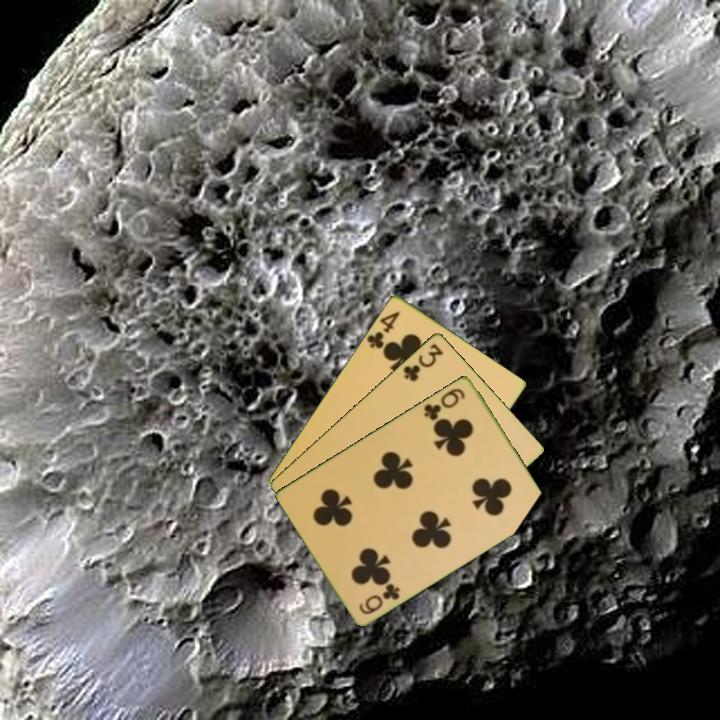3c: (400, 339, 446, 384)
4c: (363, 307, 403, 351)
6c: (420, 384, 468, 423), (355, 579, 403, 617)
